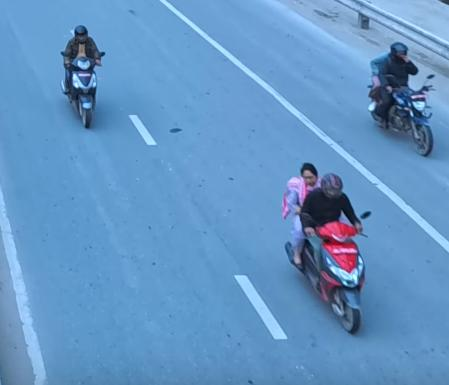bike: (371, 72, 438, 159)
scooter: (279, 206, 381, 338), (55, 51, 113, 136)
